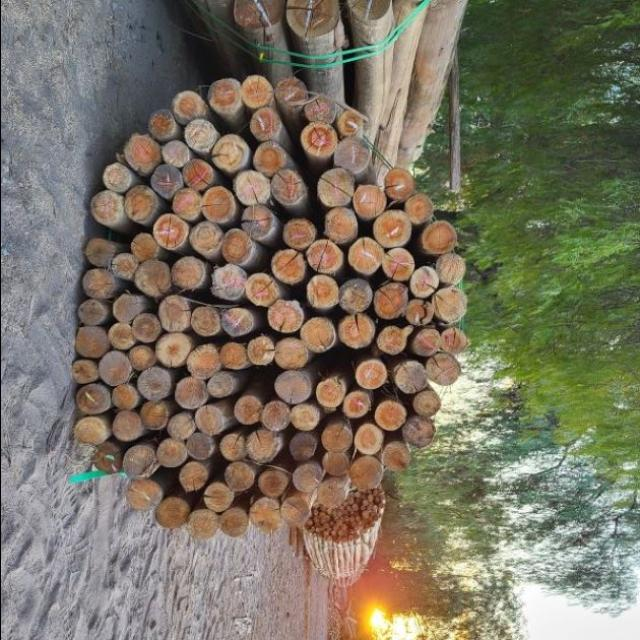package: (69, 74, 464, 536), (294, 482, 386, 544)
